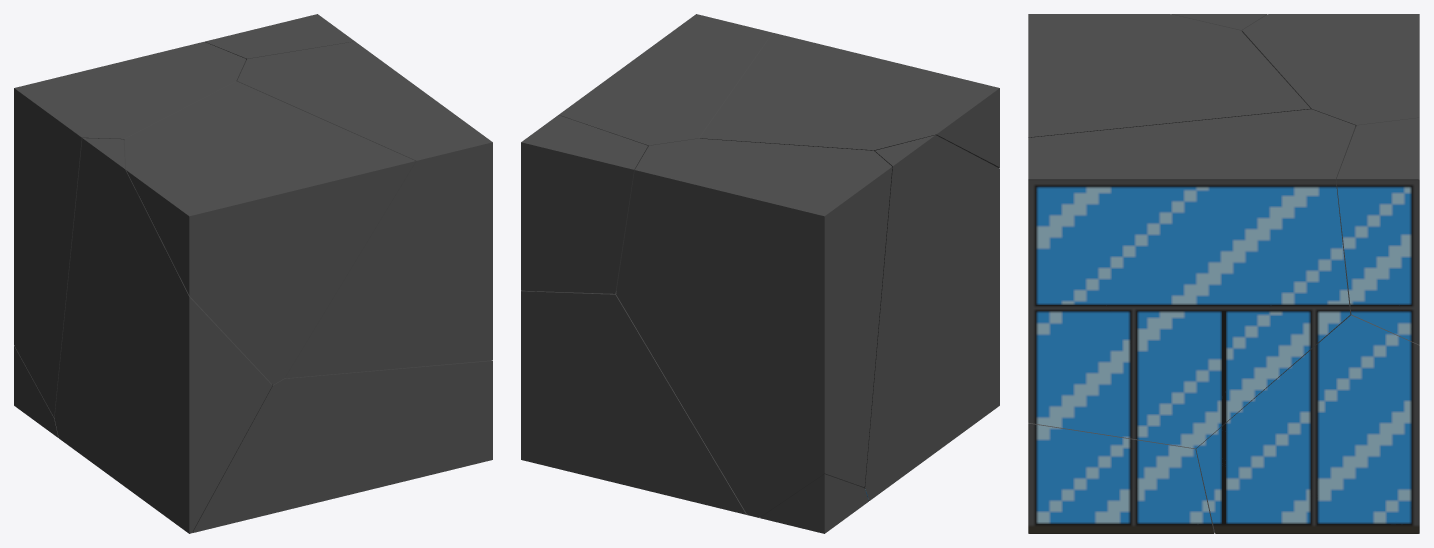
File: GlassBuildingH128x128_Ground02_break.fbx
The picture shows the model from 3 angles, left to right: view 1: azimuth 30°, elevation 25°; view 2: azimuth 150°, elevation 25°; view 3: azimuth 270°, elevation 25°; orthographic projection. The views are drawn at different scales.
Visible parts, largest first — view 1: Ground02Break07, Ground02Break04, Ground02Break06, Ground02Break02, Ground02Break03, Ground02Break08, Ground02Break01; view 2: Ground02Break03, Ground02Break04, Ground02Break05, Ground02Break07, Ground02Break08, Ground02Break06, Ground02Break01; view 3: Ground02Break06, Ground02Break05, Ground02Break07, Ground02Break02, Ground02Break08, Ground02Break03, Ground02Break04.
Boxes of the visible parts, x1=… form: Ground02Break07: x1=124, y1=81, x2=415, y2=384; Ground02Break04: x1=54, y1=138, x2=272, y2=533; Ground02Break06: x1=237, y1=41, x2=492, y2=378; Ground02Break02: x1=192, y1=360, x2=492, y2=532; Ground02Break03: x1=14, y1=42, x2=246, y2=417; Ground02Break08: x1=205, y1=14, x2=354, y2=59; Ground02Break01: x1=14, y1=346, x2=58, y2=437; Ground02Break03: x1=616, y1=138, x2=892, y2=517; Ground02Break04: x1=864, y1=135, x2=999, y2=500; Ground02Break05: x1=521, y1=290, x2=746, y2=514; Ground02Break07: x1=699, y1=33, x2=999, y2=167; Ground02Break08: x1=521, y1=115, x2=647, y2=293; Ground02Break06: x1=559, y1=14, x2=772, y2=146; Ground02Break01: x1=760, y1=474, x2=868, y2=533; Ground02Break06: x1=1028, y1=109, x2=1355, y2=448; Ground02Break05: x1=1196, y1=313, x2=1419, y2=533; Ground02Break07: x1=1028, y1=14, x2=1310, y2=137; Ground02Break02: x1=1028, y1=423, x2=1214, y2=533; Ground02Break08: x1=1336, y1=117, x2=1419, y2=344; Ground02Break03: x1=1242, y1=14, x2=1419, y2=126; Ground02Break04: x1=1171, y1=14, x2=1267, y2=31.
Bounding box in the file's own units: 100 × 100 × 100.
1 material, 1 textured.
